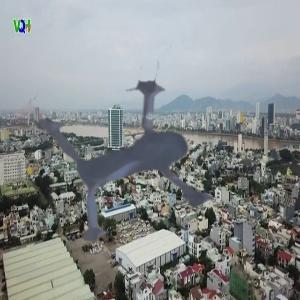drone: (13, 29, 274, 290)
